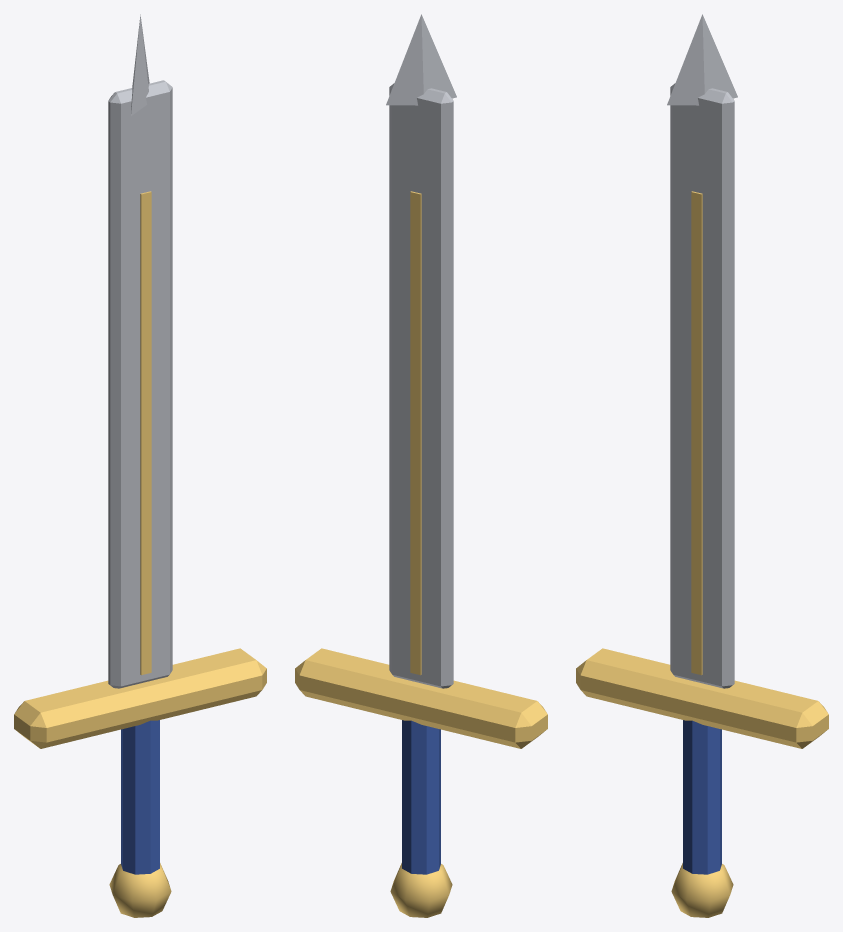
Rendered from w_knight.glb.
The picture shows the model from 3 angles, left to right: view 1: azimuth 30°, elevation 25°; view 2: azimuth 150°, elevation 25°; view 3: azimuth 330°, elevation 25°; orthographic projection.
Visible parts, largest first — view 1: w_knight; view 2: w_knight; view 3: w_knight.
Part boxes in pixels (x1,y1,x2,y2): w_knight: (14, 14, 266, 917); w_knight: (295, 14, 547, 917); w_knight: (576, 14, 828, 917).
Bounding box in the file's own units: 0.34 × 1.24 × 0.08.
